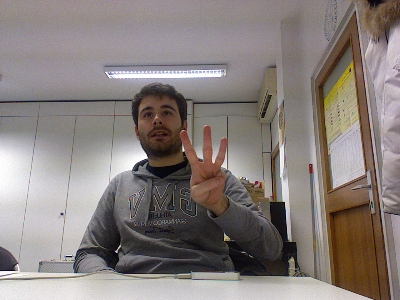三分: (177, 124, 228, 209)
